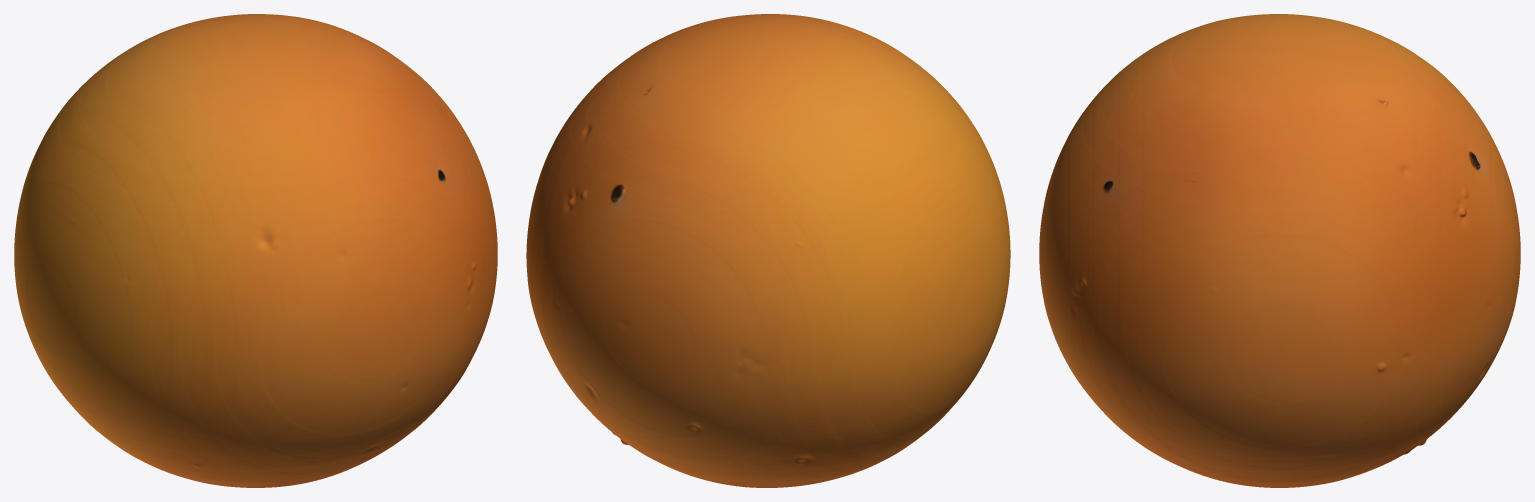
Rendered from planets.glb.
3 views of the same model, side by side, from view 1: azimuth 30°, elevation 25°; view 2: azimuth 150°, elevation 25°; view 3: azimuth 270°, elevation 25° (orthographic).
Parts seen in each view (by area): view 1: tripo_node_6c93dc20-c647-4588-a872-4e02ec0370c4; view 2: tripo_node_6c93dc20-c647-4588-a872-4e02ec0370c4; view 3: tripo_node_6c93dc20-c647-4588-a872-4e02ec0370c4.
Part boxes in pixels (left/top/right/bottom): tripo_node_6c93dc20-c647-4588-a872-4e02ec0370c4: left=14, top=14, right=497, bottom=487; tripo_node_6c93dc20-c647-4588-a872-4e02ec0370c4: left=526, top=14, right=1010, bottom=487; tripo_node_6c93dc20-c647-4588-a872-4e02ec0370c4: left=1039, top=14, right=1520, bottom=487.
Size of the model in its own units: 0.9996 by 0.9688 by 1.
Materials: 1 (1 with a texture image).
